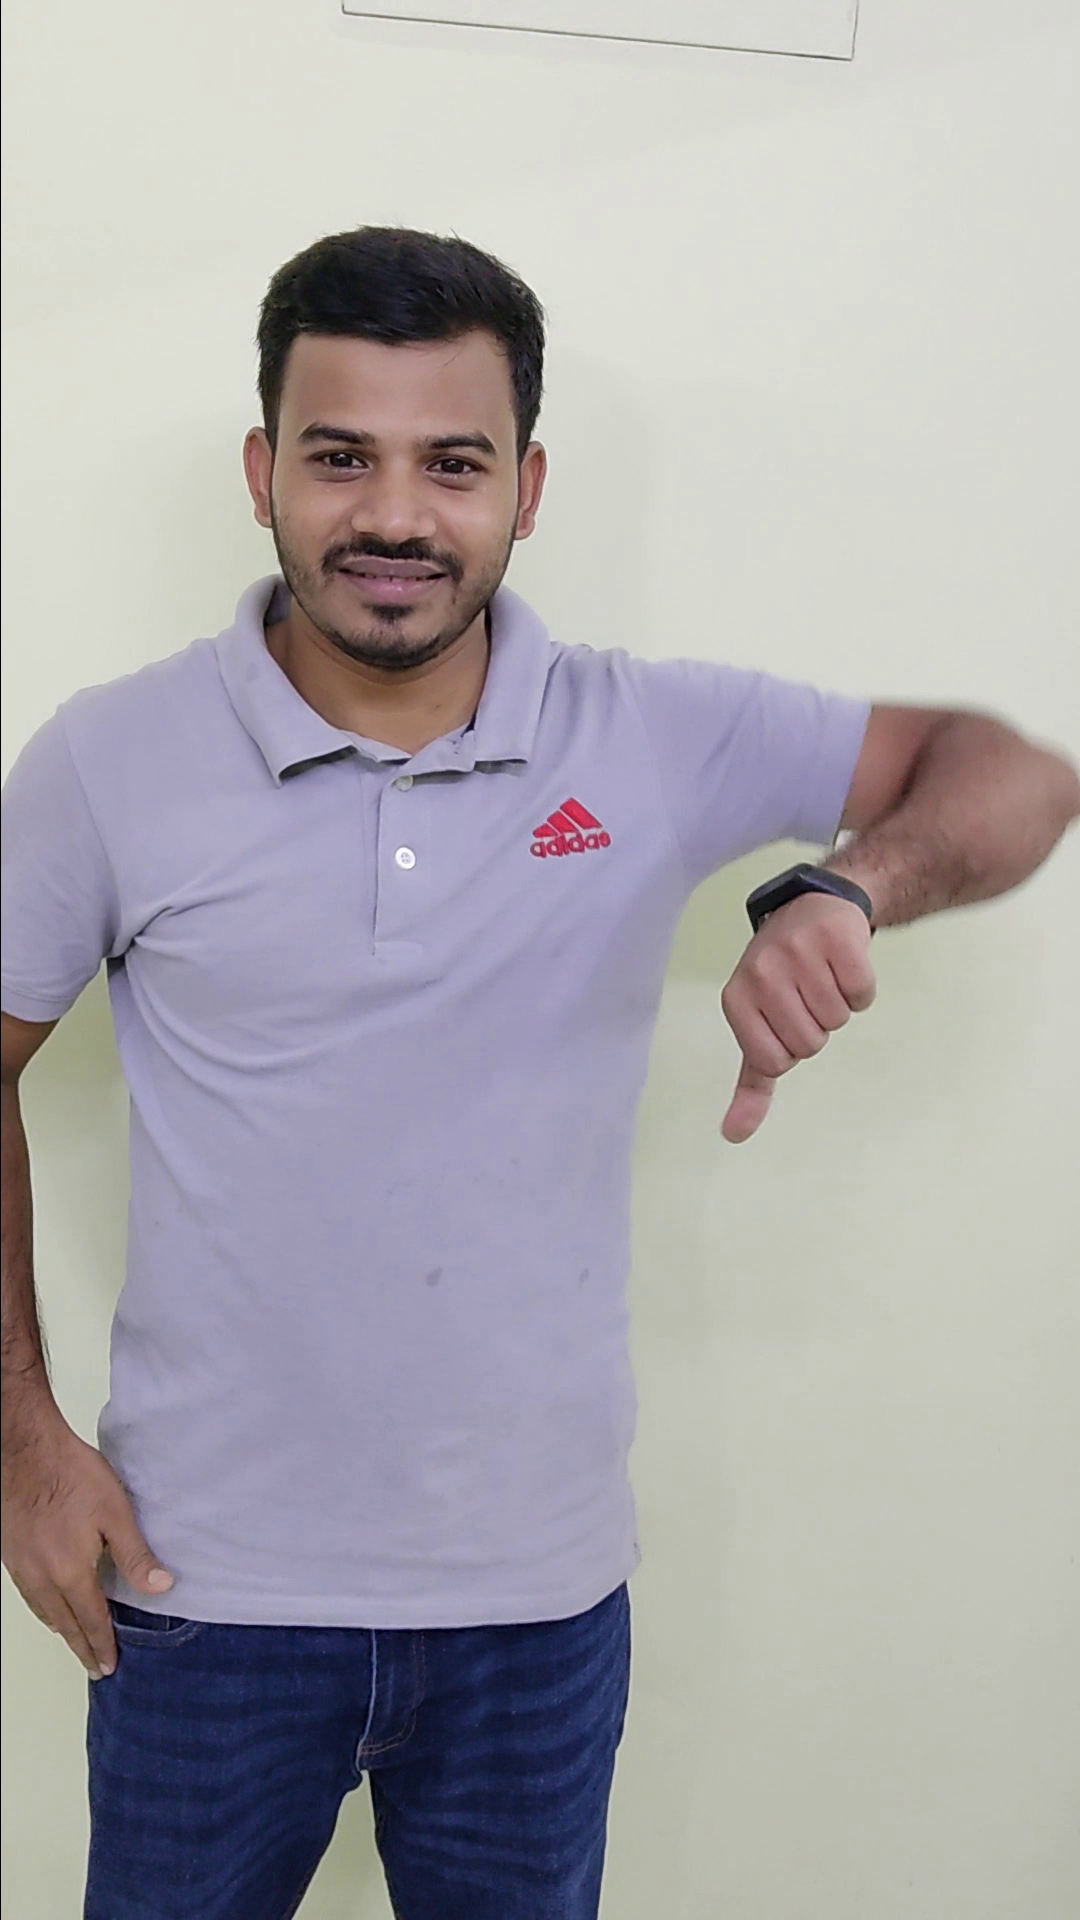Dislike: (675, 843, 926, 1170)
None: (3, 1391, 189, 1683)
